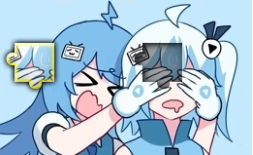gap: (135, 43, 182, 89)
